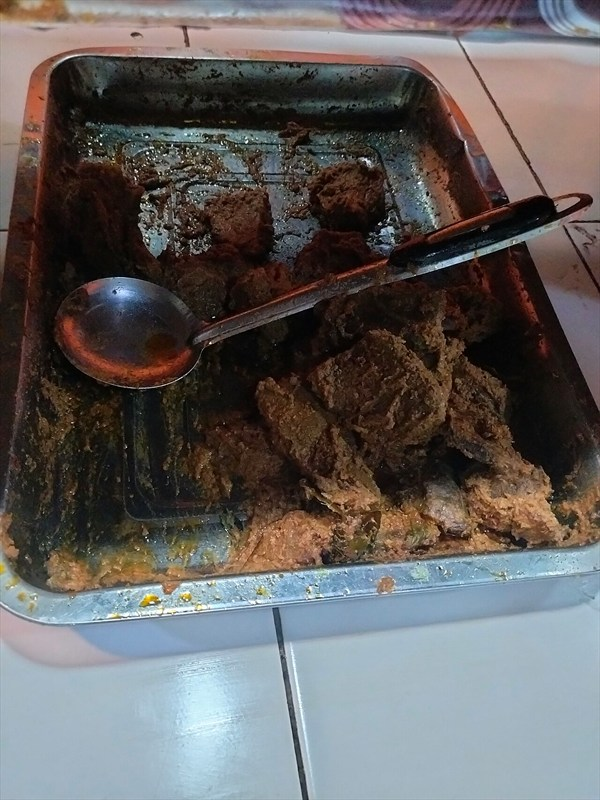Rendang: (61, 85, 553, 568)
